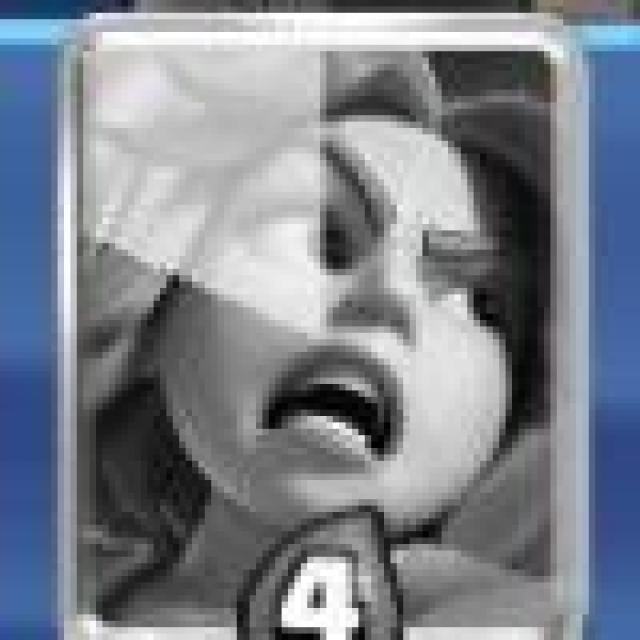Valkyrie: (65, 23, 578, 640)
